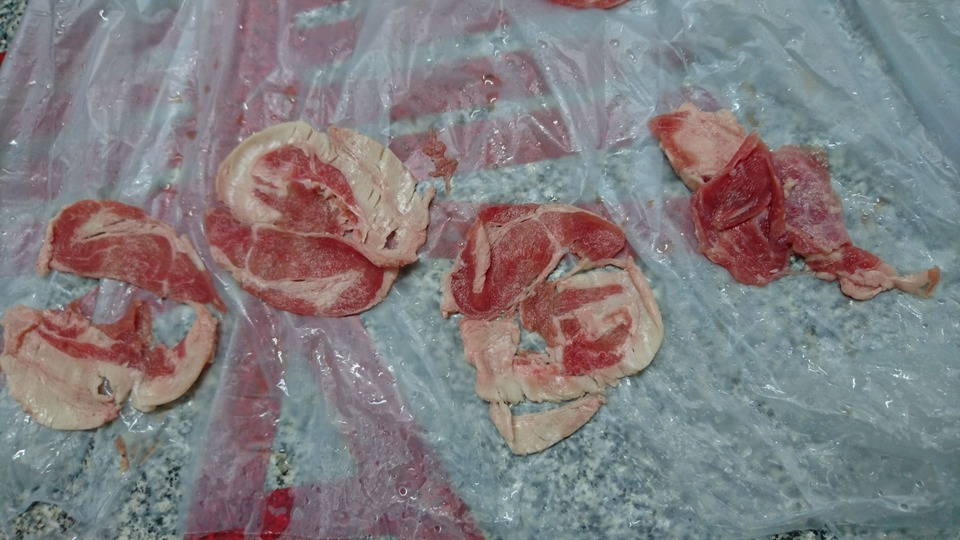restructured meat: (431, 185, 667, 468), (653, 101, 934, 296), (16, 193, 237, 431), (202, 115, 427, 318)
